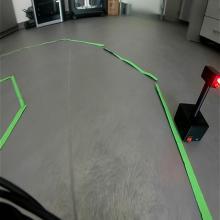red: (200, 65, 220, 89)
